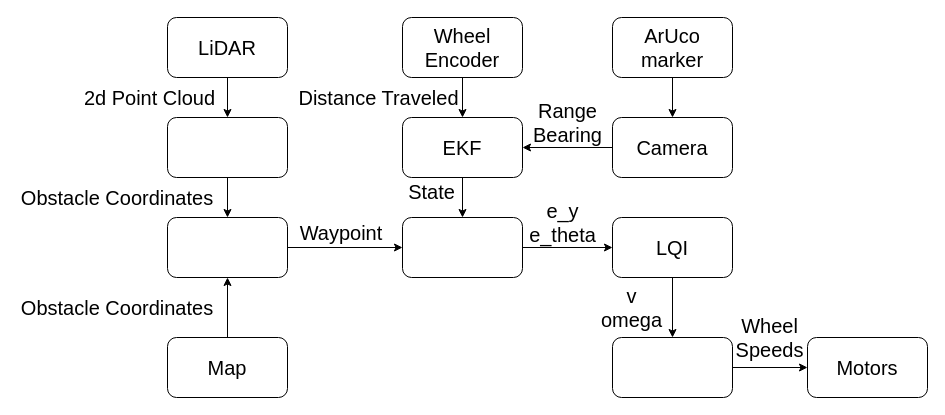
This 945x415 diagram has some shape labels left out. The shapes that lost their labels are listed below. From the top down, each one's centre as x and y in pixels, then its label:
At (x=227, y=147): "Local Map".
At (x=227, y=247): "Lazy Theta star Planner".
At (x=462, y=247): "Error calculator".
At (x=672, y=367): "Motor controller".
